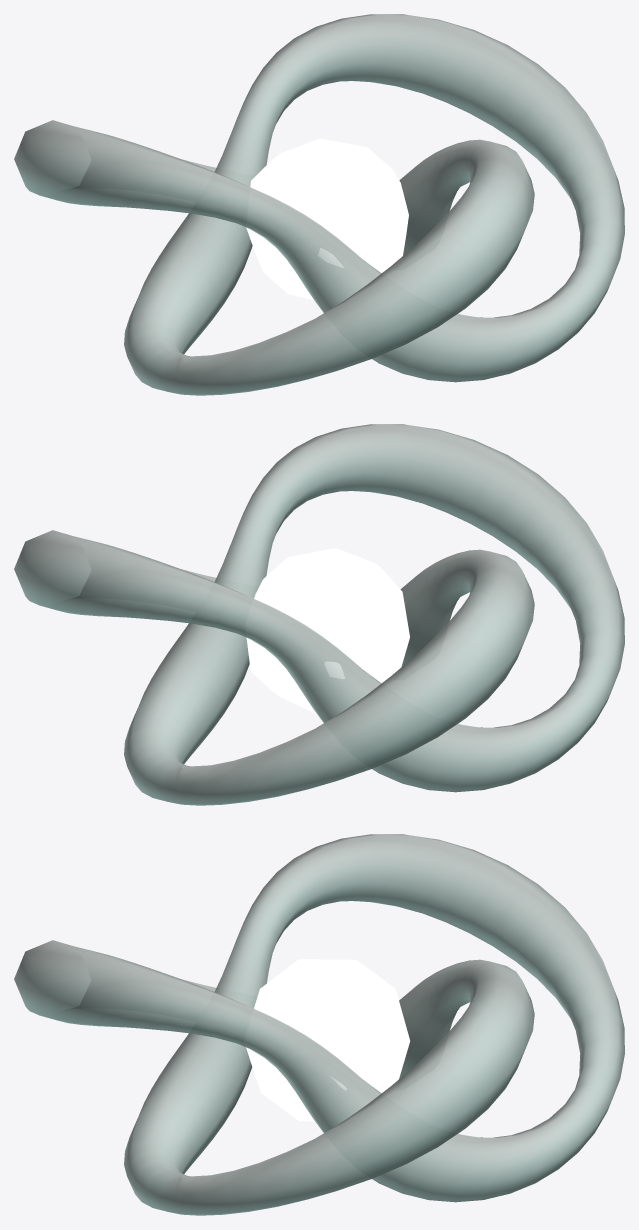
Rendered from squall_core.glb.
The picture shows the model from 3 angles, top to bottom: view 1: azimuth 30°, elevation 25°; view 2: azimuth 150°, elevation 25°; view 3: azimuth 270°, elevation 25°; orthographic projection.
Visible parts, largest first — view 1: squall, squall_eye; view 2: squall, squall_eye; view 3: squall, squall_eye.
Boxes of the visible parts, x1,y1,x2,y2 form: squall: (14, 14, 624, 395); squall_eye: (246, 138, 408, 300); squall: (14, 424, 624, 805); squall_eye: (246, 548, 409, 714); squall: (14, 834, 624, 1215); squall_eye: (246, 959, 410, 1121).
Bounding box in the file's own units: 0.6529 × 0.2717 × 0.6722.
